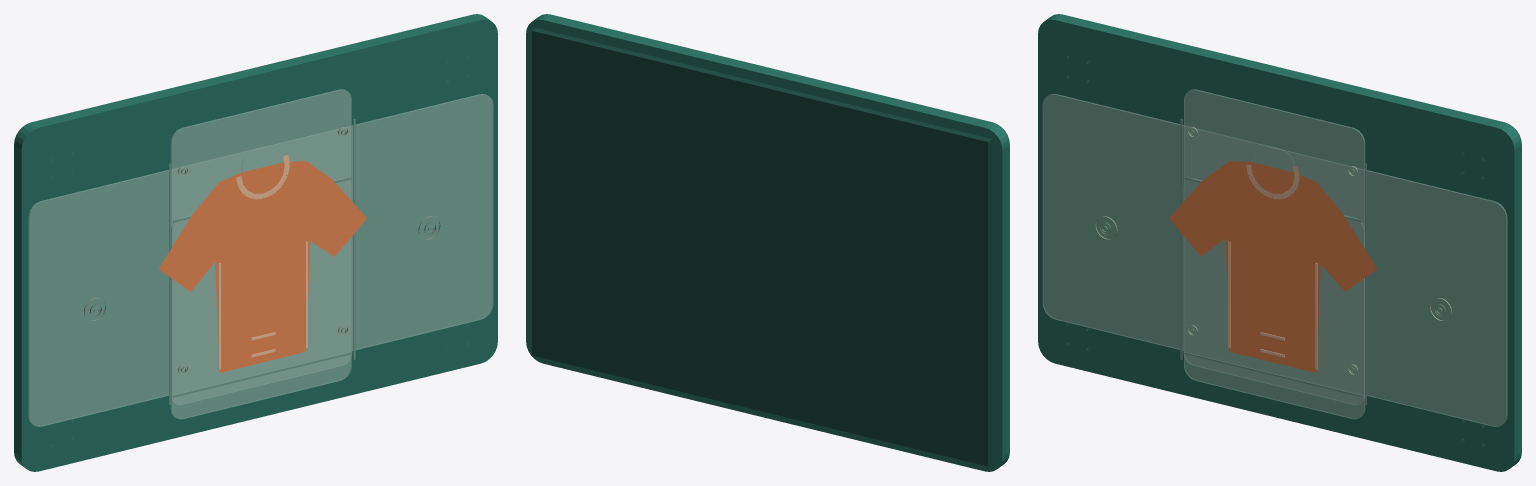
File: quick_fold_board.glb
3 renders of one model, left to right at view 1: azimuth 30°, elevation 25°; view 2: azimuth 150°, elevation 25°; view 3: azimuth 330°, elevation 25°, orthographic.
Parts seen in each view (by area): view 1: Main rounded rectangular base, Right folding wing, Left folding wing, Upper center folding flap, Centered orange T-shirt folding guide, Lower center folding flap, Vertical fold seam, Horizontal fold seam; view 2: Continuous dark underside, Main rounded rectangular base; view 3: Main rounded rectangular base, Right folding wing, Left folding wing, Upper center folding flap, Centered orange T-shirt folding guide, Lower center folding flap, Vertical fold seam, Horizontal fold seam.
Part boxes in pixels (left/top/right/bottom): Main rounded rectangular base: left=14, top=14, right=497, bottom=471; Right folding wing: left=242, top=94, right=493, bottom=374; Left folding wing: left=28, top=146, right=279, bottom=426; Upper center folding flap: left=170, top=89, right=351, bottom=419; Centered orange T-shirt folding guide: left=158, top=161, right=366, bottom=372; Lower center folding flap: left=171, top=178, right=352, bottom=404; Vertical fold seam: left=353, top=119, right=355, bottom=359; Horizontal fold seam: left=173, top=352, right=351, bottom=397; Continuous dark underside: left=532, top=28, right=992, bottom=466; Main rounded rectangular base: left=526, top=14, right=1009, bottom=471; Main rounded rectangular base: left=1038, top=14, right=1521, bottom=471; Right folding wing: left=1255, top=146, right=1507, bottom=426; Left folding wing: left=1042, top=93, right=1280, bottom=369; Upper center folding flap: left=1184, top=89, right=1365, bottom=419; Centered orange T-shirt folding guide: left=1169, top=161, right=1377, bottom=372; Lower center folding flap: left=1183, top=178, right=1364, bottom=404; Vertical fold seam: left=1180, top=119, right=1182, bottom=359; Horizontal fold seam: left=1184, top=352, right=1362, bottom=397.
Size of the model in its own units: 4.7 by 3.24 by 0.273.
